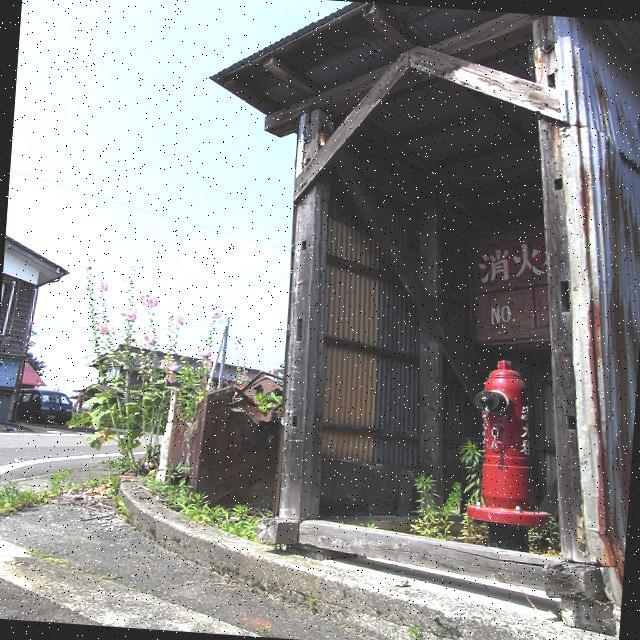fire_hydrant: (460, 358, 558, 554)
